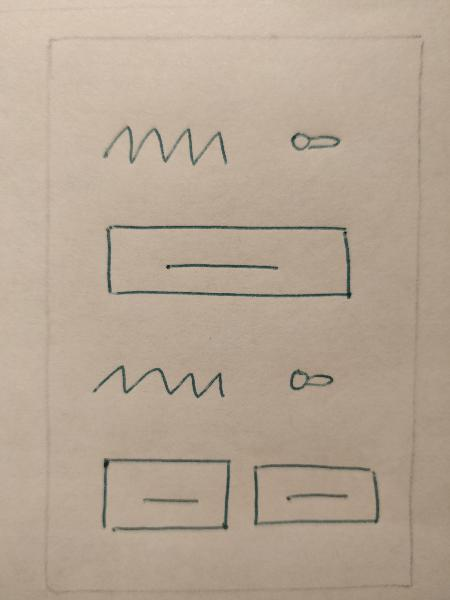button: (95, 216, 371, 315), (94, 453, 241, 542), (245, 458, 390, 535)
switch: (274, 354, 349, 402), (282, 126, 359, 162)
text: (85, 353, 241, 421), (88, 115, 250, 176)
